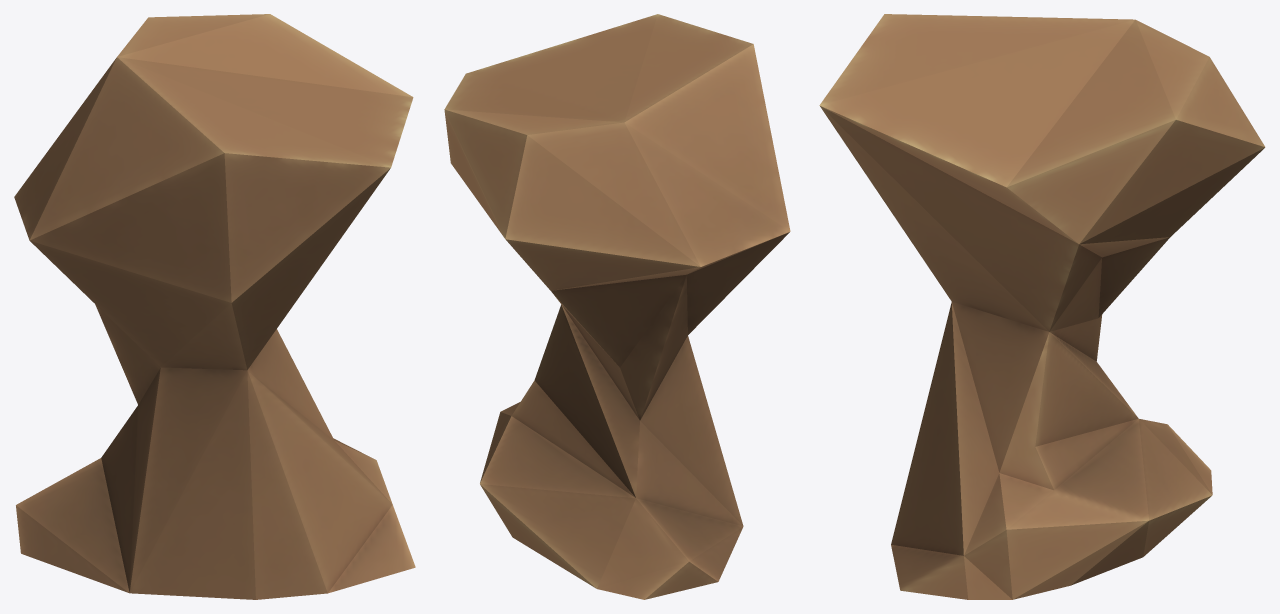
File: Mountain rock_18.fbx
The picture shows the model from 3 angles, left to right: view 1: azimuth 30°, elevation 25°; view 2: azimuth 150°, elevation 25°; view 3: azimuth 270°, elevation 25°; orthographic projection. The views are drawn at different scales.
Parts seen in each view (by area): view 1: Mountain rock_18; view 2: Mountain rock_18; view 3: Mountain rock_18.
Boxes of the visible parts, x1=… form: Mountain rock_18: x1=14, y1=14, x2=415, y2=599; Mountain rock_18: x1=444, y1=14, x2=790, y2=599; Mountain rock_18: x1=819, y1=14, x2=1265, y2=599.
Bounding box in the file's own units: 191 × 198 × 235.
1 material, 1 textured.
